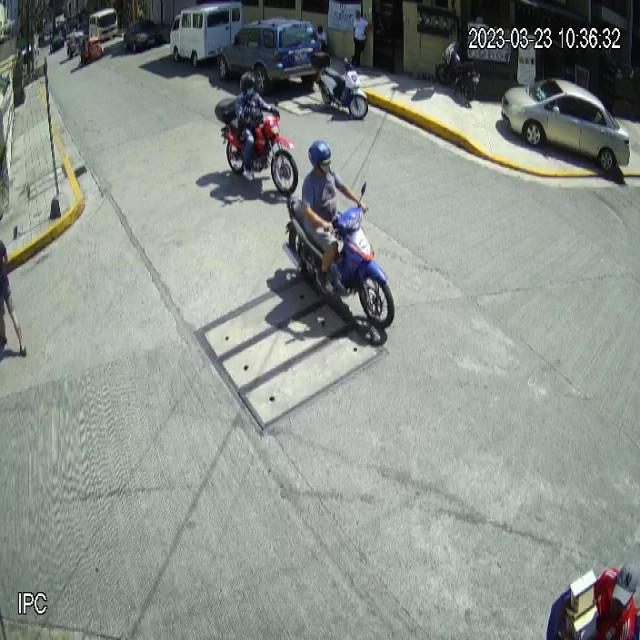Car: (500, 76, 631, 175), (216, 17, 322, 98)
Motorcycle: (284, 181, 398, 329), (213, 96, 300, 197), (310, 49, 370, 121)
Van: (169, 1, 245, 67)
